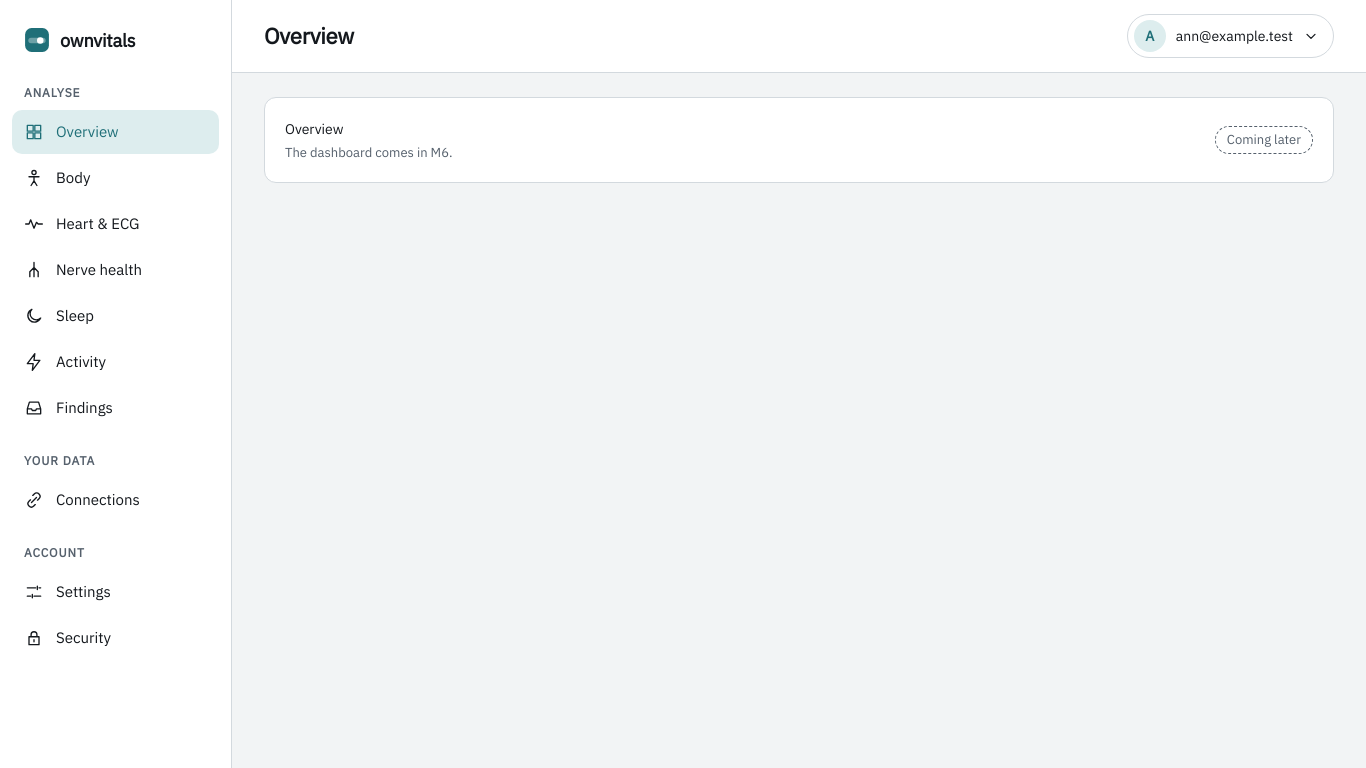
Test: signing out › shows an error and keeps the user signed in when it fails
The width and height of the screenshot is (1366, 768).
Click the button "A ann@example.test" at (1230, 36), box [1127, 14, 1334, 58]
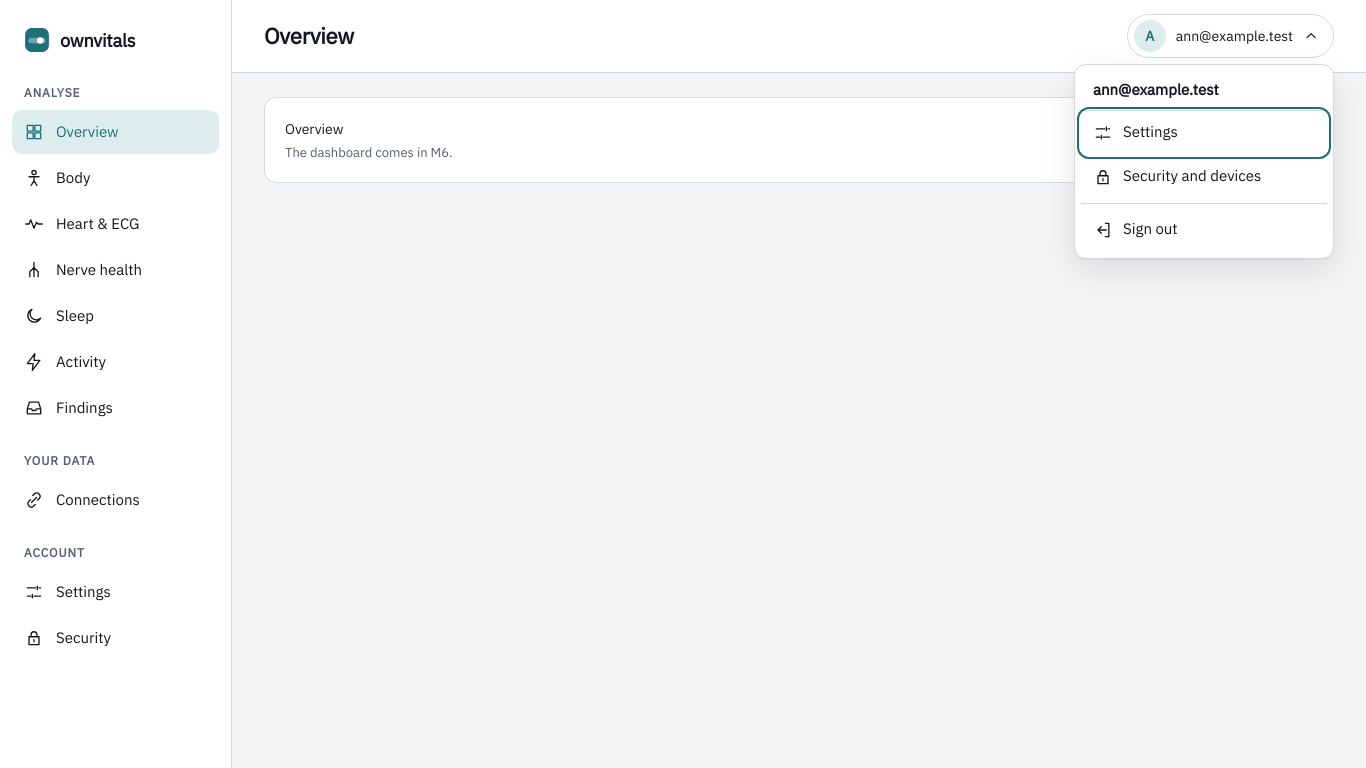
Click the menu item "Sign out" at (1204, 230), box [1081, 208, 1327, 252]
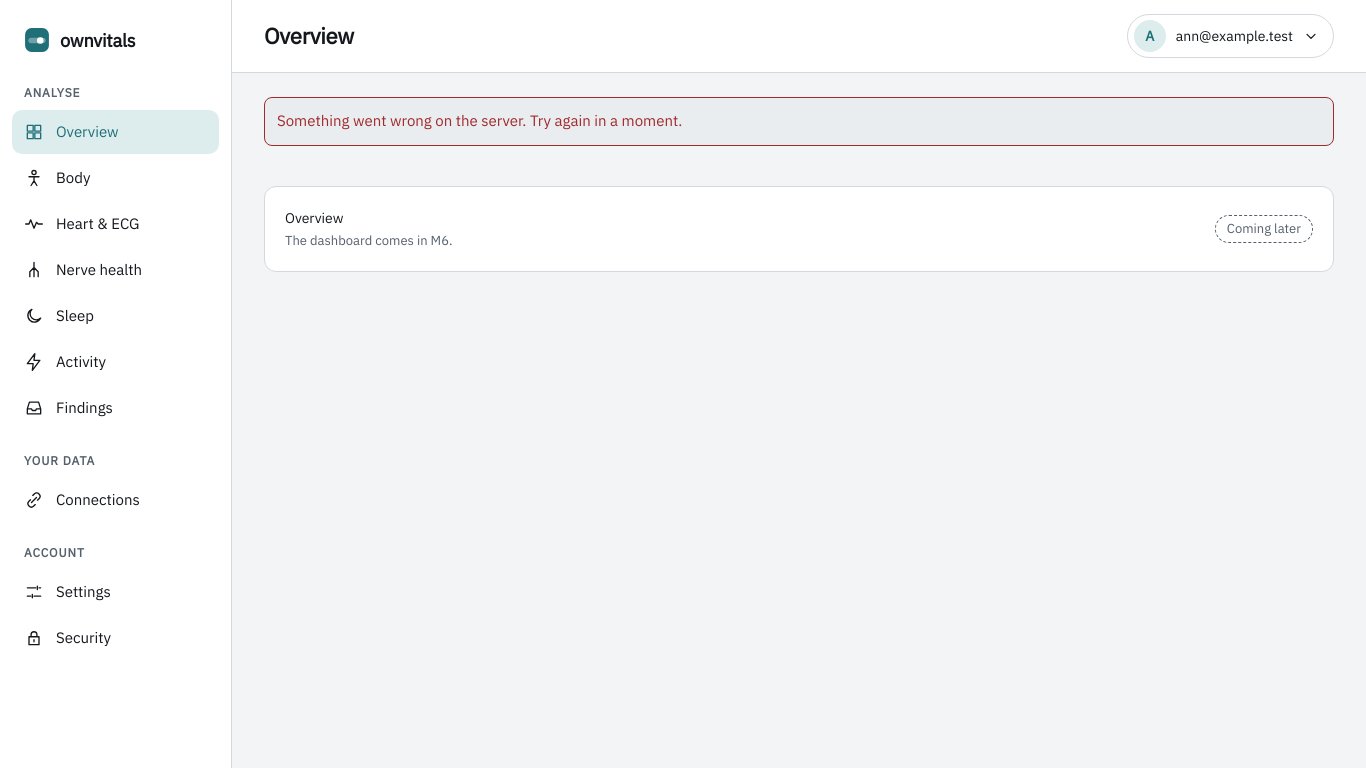
Expected: the message shows "went wrong on the server", [277, 111, 682, 130]
Click the button "A ann@example.test" at (1230, 36), box [1127, 14, 1334, 58]
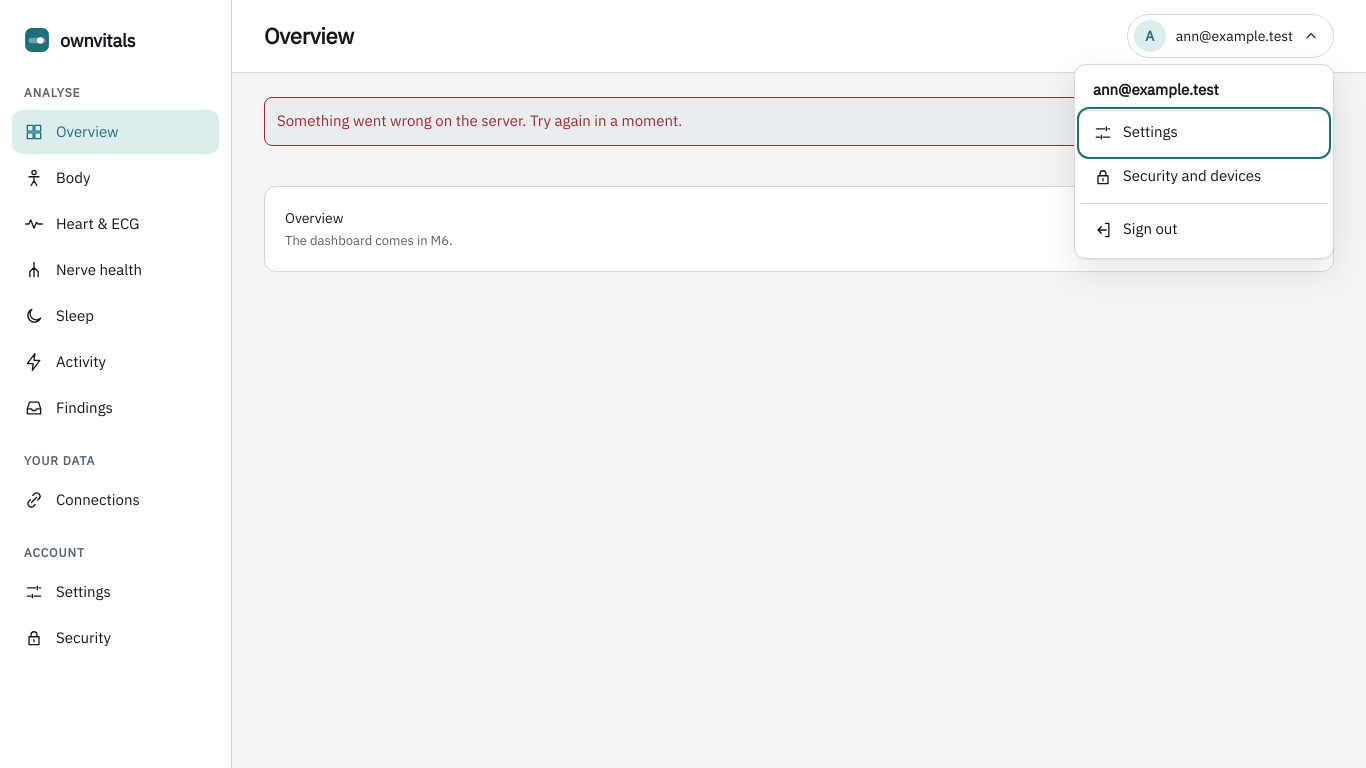
Expected: the menu item "Sign out" is enabled, [1081, 208, 1327, 252]
